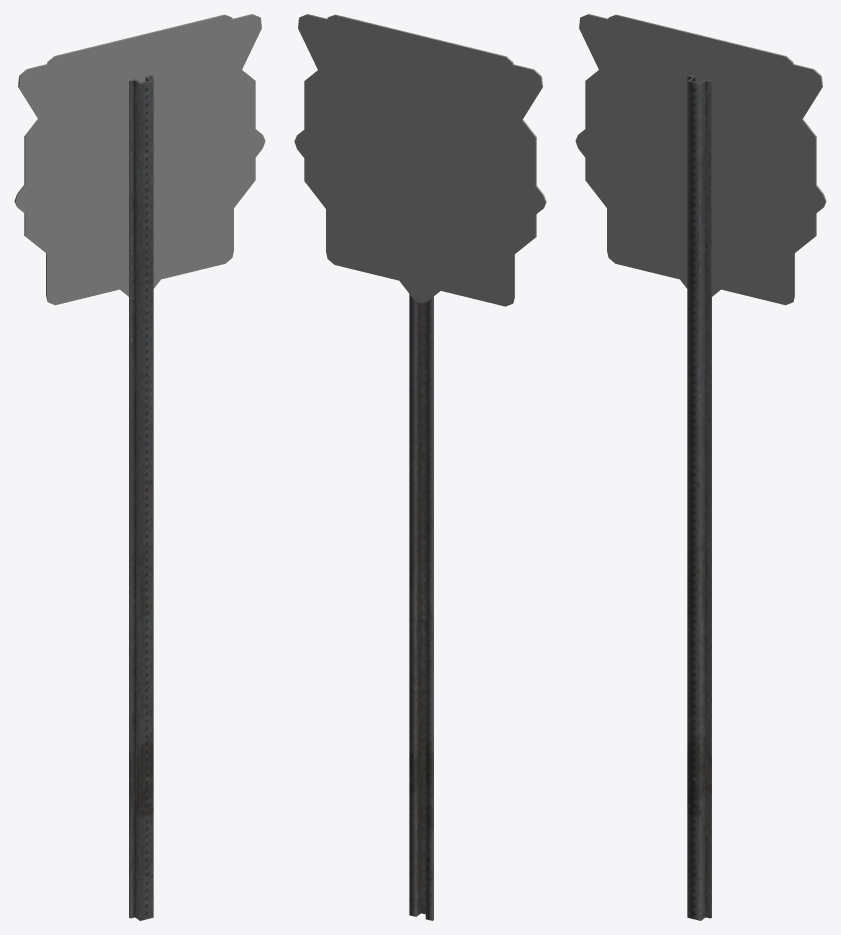
Rendered from roadsigns.DAE.
3 renders of one model, left to right at view 1: azimuth 30°, elevation 25°; view 2: azimuth 150°, elevation 25°; view 3: azimuth 330°, elevation 25°, orthographic.
Parts seen in each view (by area): view 1: roadsign_square-04, roadsign_speedlimit_35, roadsign_pole, roadsign_yield, roadsign_stop, roadsign_uturn_L, roadsign_circle-02; view 2: roadsign_square-04, roadsign_speedlimit_35, roadsign_pole, roadsign_yield, roadsign_turn_R, roadsign_stop, roadsign_circle-02; view 3: roadsign_square-04, roadsign_pole, roadsign_yield, roadsign_speedlimit_35, roadsign_stop, roadsign_uturn_L, roadsign_circle-02.
Boxes of the visible parts, x1,y1,x2,y2 form: roadsign_square-04: [47, 14, 233, 260]; roadsign_speedlimit_35: [46, 25, 233, 305]; roadsign_pole: [129, 75, 153, 920]; roadsign_yield: [18, 14, 261, 262]; roadsign_stop: [24, 70, 255, 253]; roadsign_uturn_L: [15, 112, 265, 296]; roadsign_circle-02: [28, 126, 46, 243]; roadsign_square-04: [326, 14, 513, 262]; roadsign_speedlimit_35: [326, 25, 514, 306]; roadsign_pole: [409, 294, 433, 920]; roadsign_yield: [298, 14, 542, 221]; roadsign_turn_R: [294, 112, 546, 303]; roadsign_stop: [304, 70, 536, 254]; roadsign_circle-02: [308, 79, 325, 198]; roadsign_square-04: [607, 14, 793, 261]; roadsign_pole: [687, 75, 711, 920]; roadsign_yield: [579, 14, 822, 262]; roadsign_speedlimit_35: [607, 25, 794, 305]; roadsign_stop: [585, 70, 816, 253]; roadsign_uturn_L: [575, 126, 826, 296]; roadsign_circle-02: [588, 78, 606, 198].
Bounding box in the file's own units: 81.54 × 4.17 × 274.
